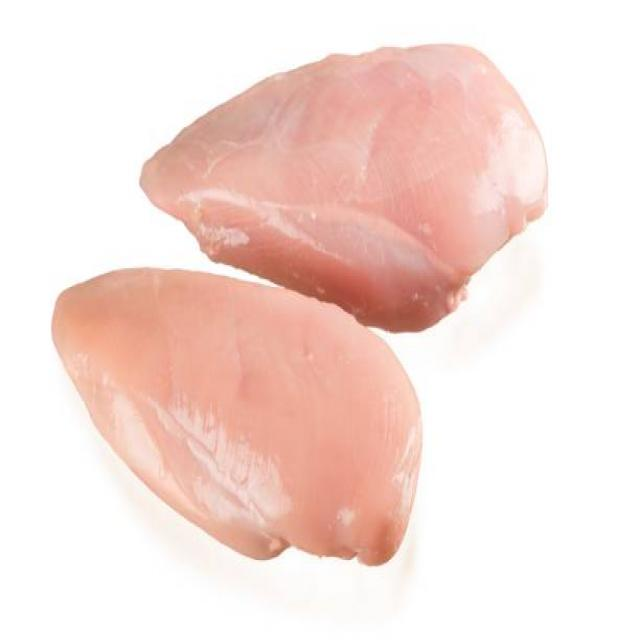Chicken: (16, 288, 441, 566), (158, 27, 576, 271)
